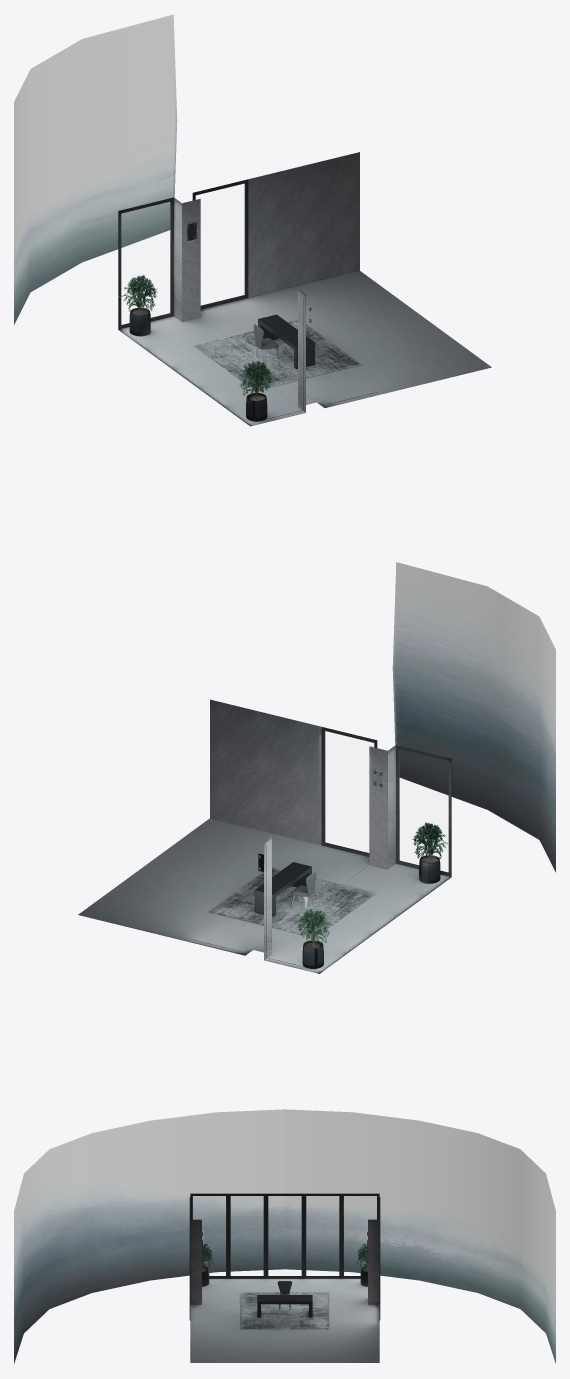
Rendered from minimalistic_modern_office-transformed.glb.
3 renders of one model, top to bottom at view 1: azimuth 30°, elevation 25°; view 2: azimuth 150°, elevation 25°; view 3: azimuth 270°, elevation 25°, orthographic. The views are drawn at different scales.
Visible parts, largest first — view 1: Minimalistic Modern Office, Carpet; view 2: Minimalistic Modern Office, Carpet; view 3: Minimalistic Modern Office, Carpet.
Part boxes in pixels (x1,y1,x2,y2): Minimalistic Modern Office: (14,14,491,426); Carpet: (194,320,360,389); Minimalistic Modern Office: (78,562,555,973); Carpet: (209,868,376,936); Minimalistic Modern Office: (14,1109,555,1363); Carpet: (241,1292,328,1329).
Bounding box in the file's own units: 13.11 × 8.11 × 24.91.
Materials: 9 (7 with a texture image).
